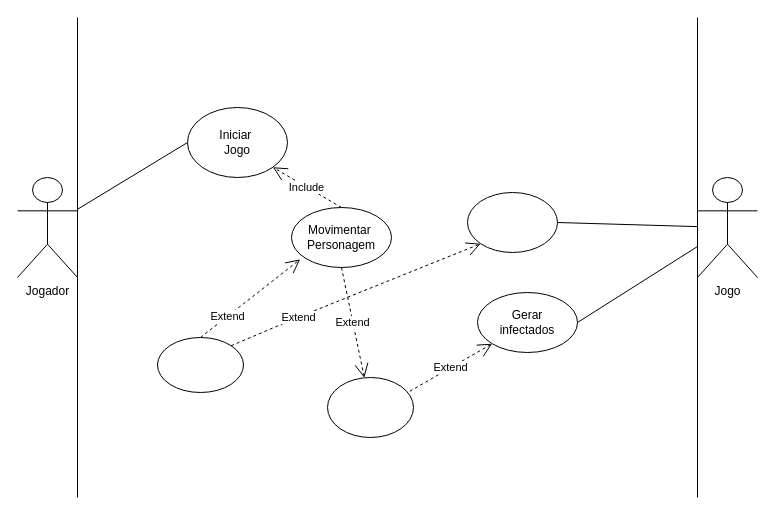
Image size: 775x516. Some labels were removed from this diagram. The shapes that lost their labels are listed below. From the top down, each one's centre as x and y in pixels, then its label:
At [512,222]: "Gerar recursos".
At [200,364]: "Coletar resursos".
At [370,407]: "Confrontar personagem".
